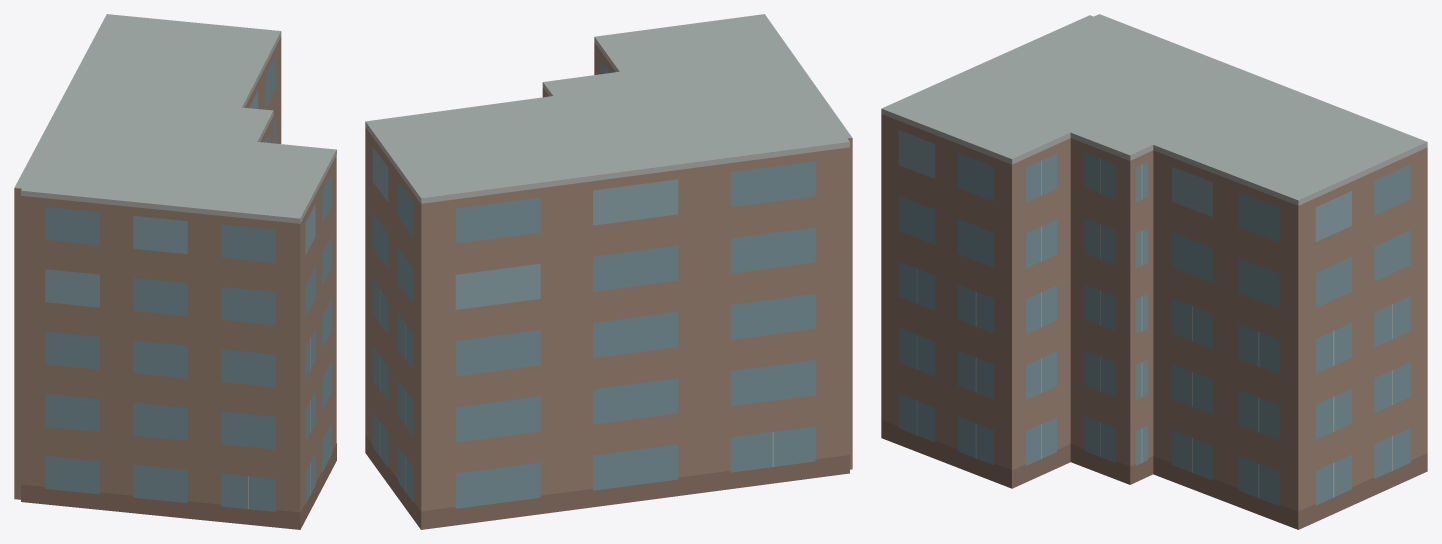
The model's file is survey-upis-32717654.glb.
3 views of the same model, side by side, from view 1: azimuth 30°, elevation 25°; view 2: azimuth 150°, elevation 25°; view 3: azimuth 270°, elevation 25° (orthographic). The views are drawn at different scales.
Visible parts, largest first — view 1: survey-upis-32717654.tmp; view 2: survey-upis-32717654.tmp; view 3: survey-upis-32717654.tmp.
Boxes of the visible parts, x1,y1,x2,y2 form: survey-upis-32717654.tmp: (14,14,336,529); survey-upis-32717654.tmp: (365,14,852,529); survey-upis-32717654.tmp: (881,14,1427,529).
Size of the model in its own units: 18.09 by 14.9 by 22.4.
